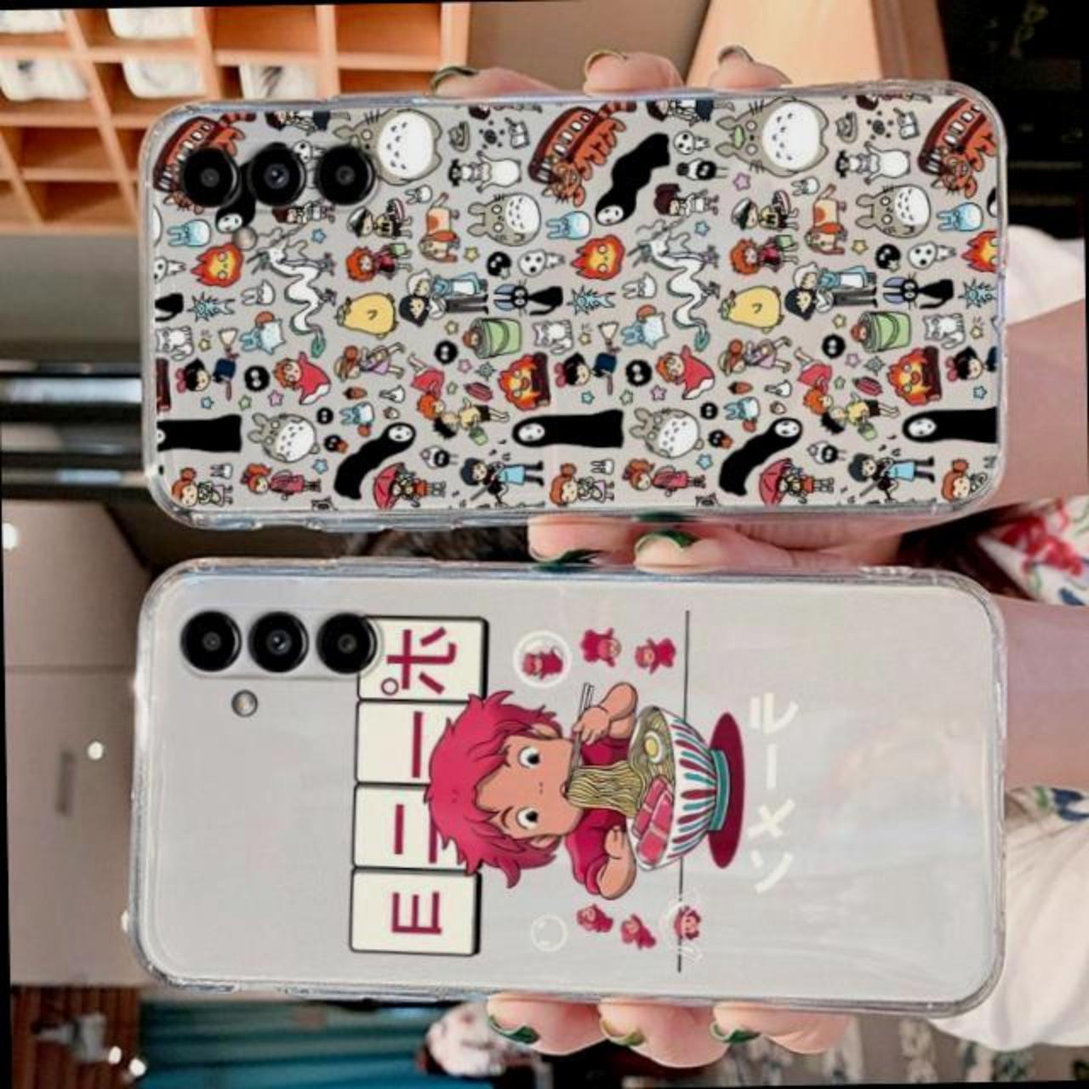phone: (132, 556, 1000, 1016), (135, 89, 1003, 518)
